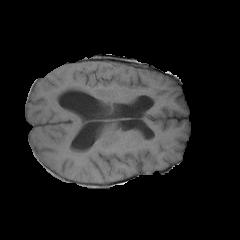glioma: (50, 67, 156, 108)
